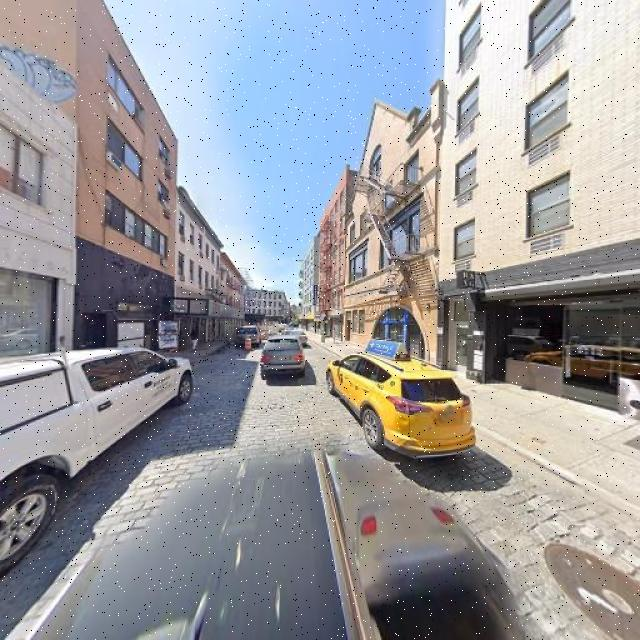Building: (447, 1, 640, 429), (84, 1, 173, 373), (344, 80, 444, 369), (1, 55, 78, 398)
